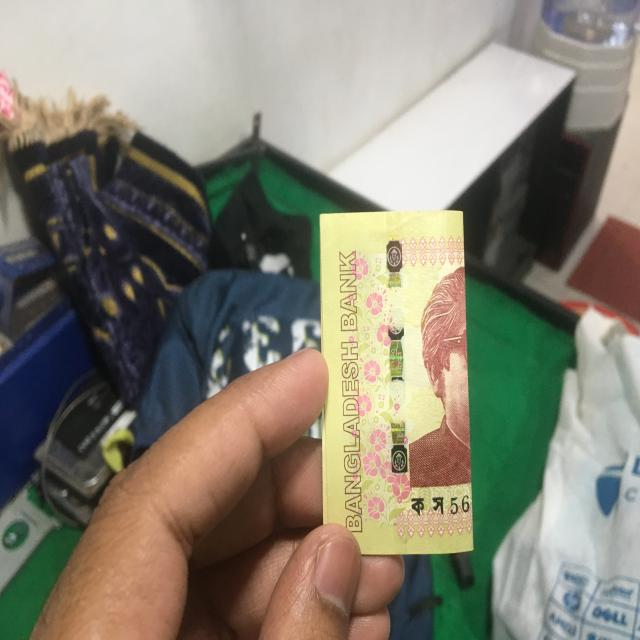Taka: (314, 213, 476, 550)
